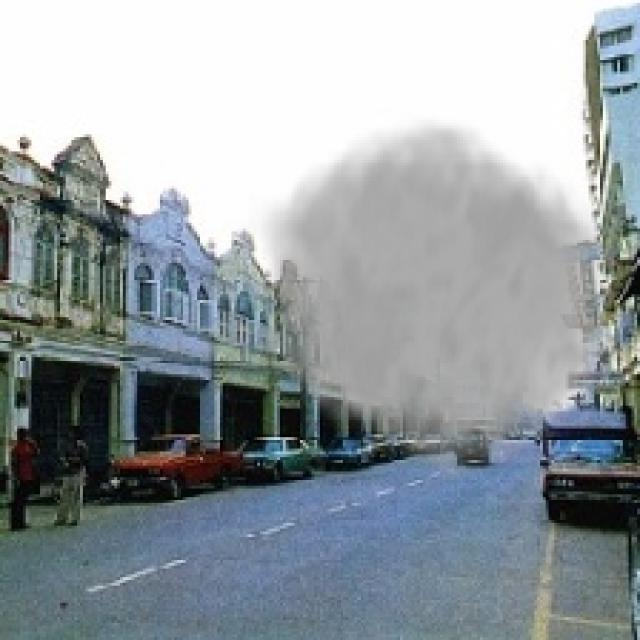Smoke: (246, 109, 623, 488)
